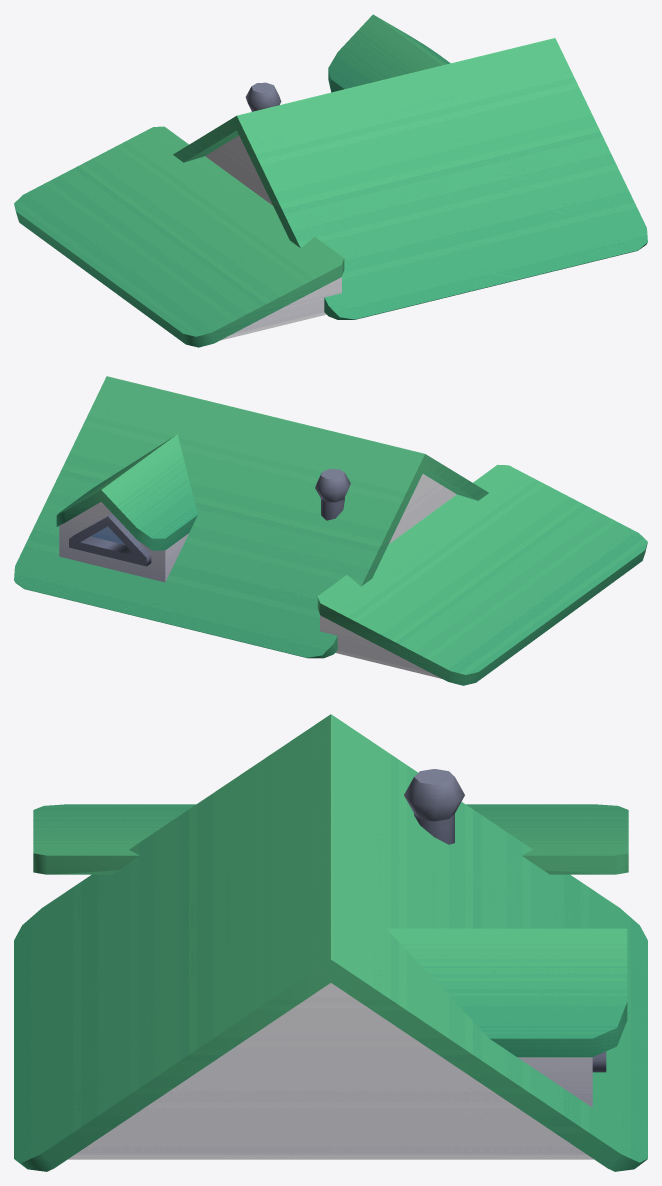
Rendered from suburban-i.glb.
The picture shows the model from 3 angles, top to bottom: view 1: azimuth 30°, elevation 25°; view 2: azimuth 150°, elevation 25°; view 3: azimuth 270°, elevation 25°; orthographic projection. The views are drawn at different scales.
Visible parts, largest first — view 1: building-type-i; view 2: building-type-i; view 3: building-type-i.
Boxes of the visible parts, <box> form: building-type-i: <box>14,14,647,347</box>; building-type-i: <box>14,376,647,685</box>; building-type-i: <box>14,714,647,1171</box>.
Size of the model in its own units: 14 by 3.98 by 10.69.
1 material, 1 textured.
